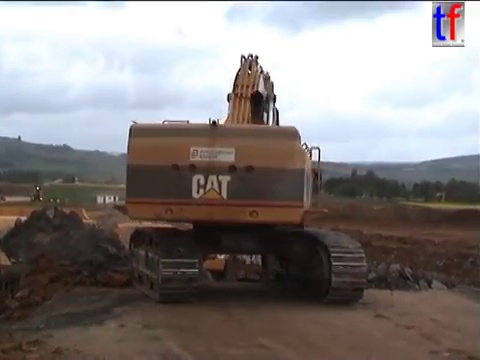excavator: (110, 51, 371, 308)
truck: (1, 205, 142, 325), (200, 222, 311, 287), (108, 215, 195, 286)
